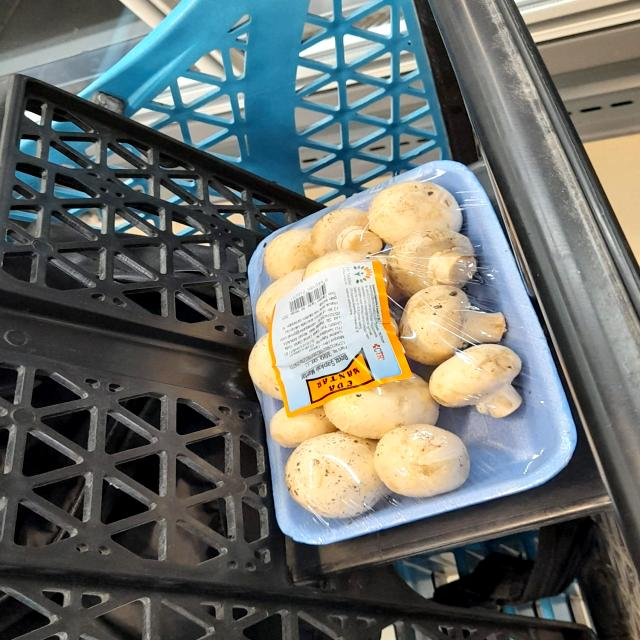mushroom: (386, 280, 528, 360), (412, 332, 544, 417), (360, 166, 481, 246), (371, 220, 491, 298), (368, 419, 479, 499)
